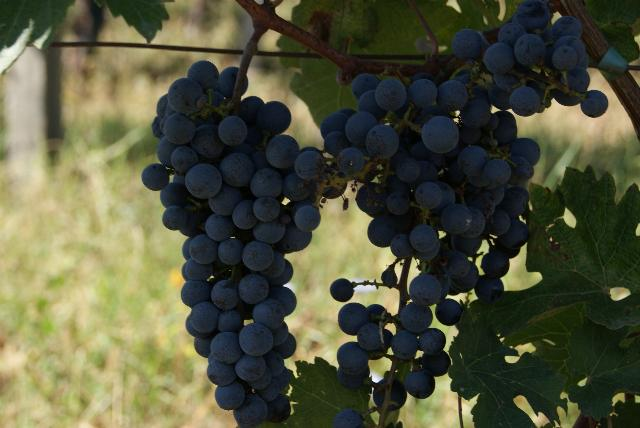grapes: (329, 76, 539, 428), (142, 60, 311, 428), (451, 0, 608, 118)
